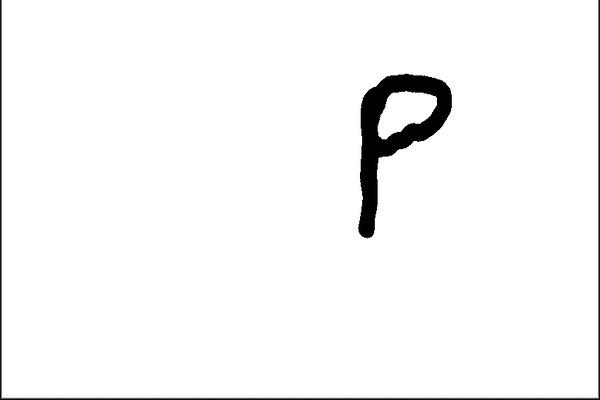P: (341, 60, 464, 239)
